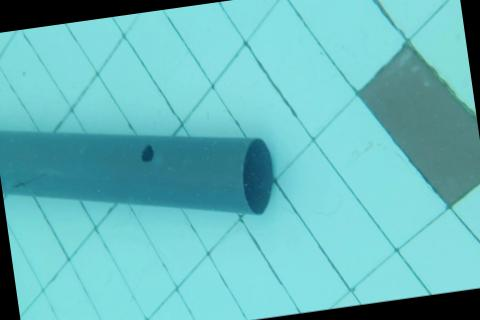kebocoran: (138, 143, 154, 163)
keretakan: (10, 171, 44, 189)
